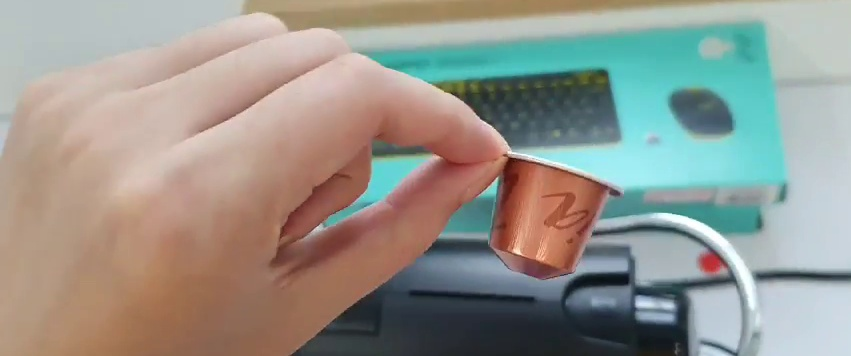capsule_6: (484, 149, 622, 282)
